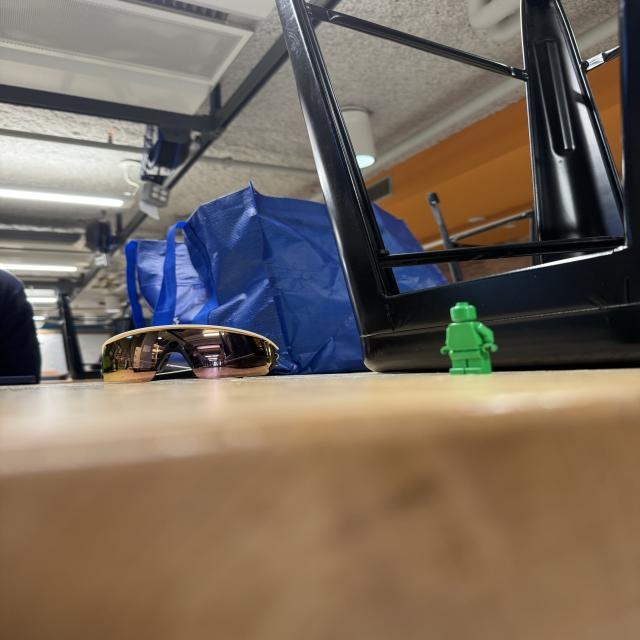Green Mini Figure: (440, 302, 498, 375)
